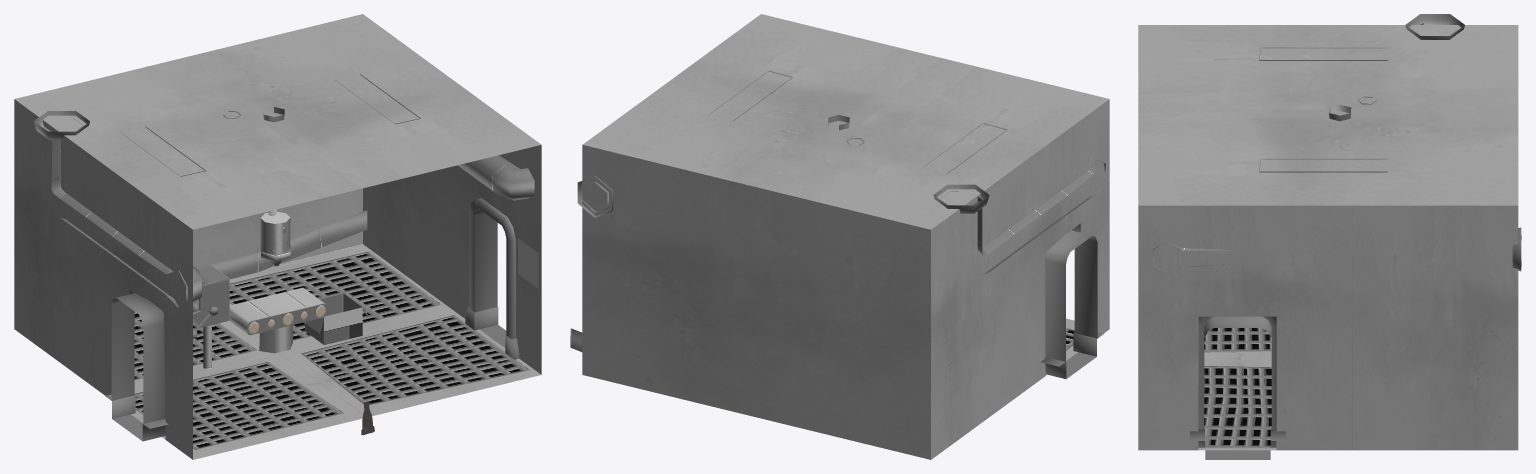
File: MSH_Nuka_room_L1_R1_optimized.fbx
The picture shows the model from 3 angles, left to right: view 1: azimuth 30°, elevation 25°; view 2: azimuth 150°, elevation 25°; view 3: azimuth 270°, elevation 25°; orthographic projection. The views are drawn at different scales.
Parts seen in each view (by area): view 1: lightmap1, lightmap0, lightmap-1; view 2: lightmap1, lightmap-1, lightmap0; view 3: lightmap1, lightmap0, lightmap-1.
Boxes of the visible parts, x1,y1,x2,y2 form: lightmap1: [14, 14, 541, 459]; lightmap0: [34, 74, 538, 369]; lightmap-1: [111, 209, 506, 441]; lightmap1: [582, 14, 1109, 459]; lightmap-1: [1045, 230, 1097, 379]; lightmap0: [570, 70, 1105, 351]; lightmap1: [1138, 25, 1518, 450]; lightmap0: [1153, 14, 1521, 272]; lightmap-1: [1204, 316, 1271, 459].
Size of the model in its own units: 10.3 by 6.44 by 8.33.
